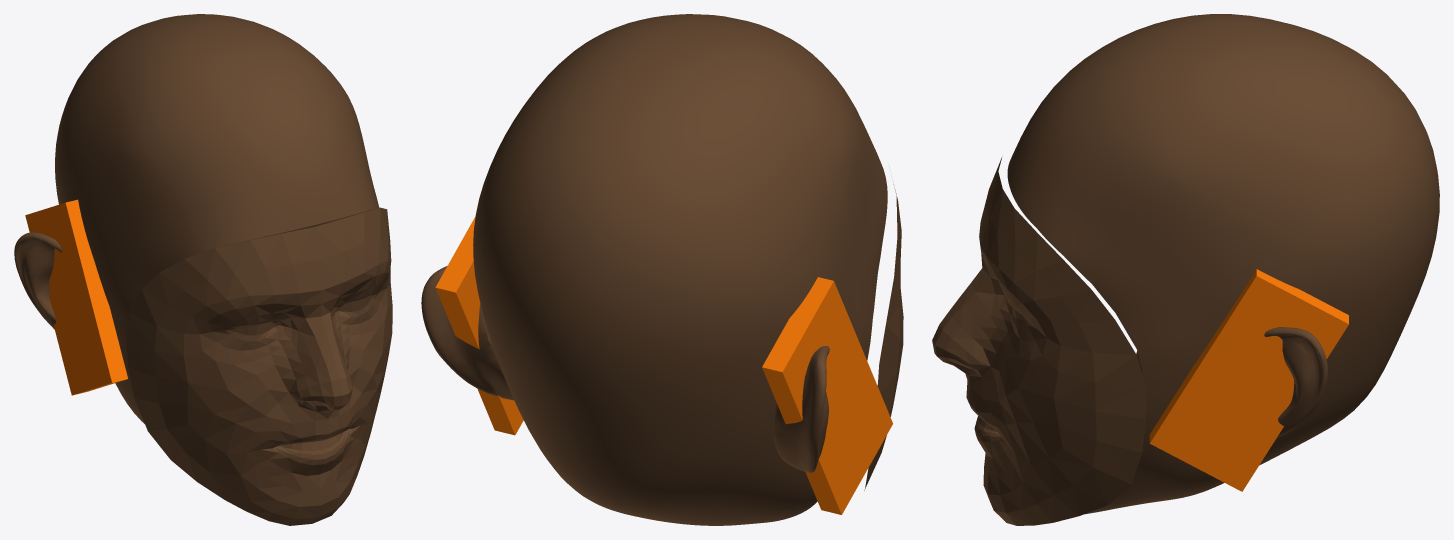
The model's file is standard_face.glb.
The picture shows the model from 3 angles, left to right: view 1: azimuth 30°, elevation 25°; view 2: azimuth 150°, elevation 25°; view 3: azimuth 270°, elevation 25°; orthographic projection. The views are drawn at different scales.
Parts seen in each view (by area): view 1: skull, standard face mesh, right_ear, ears; view 2: skull, right_ear, ears, left_ear, standard face mesh; view 3: skull, standard face mesh, left_ear, ears.
Boxes of the visible parts, <box> form: skull: <box>55,14,379,423</box>; standard face mesh: <box>126,207,392,525</box>; right_ear: <box>25,199,127,395</box>; ears: <box>14,232,62,329</box>; skull: <box>473,14,887,525</box>; right_ear: <box>762,277,892,514</box>; ears: <box>421,266,829,472</box>; left_ear: <box>435,216,523,435</box>; standard face mesh: <box>864,184,903,490</box>; skull: <box>1007,14,1439,514</box>; standard face mesh: <box>932,157,1146,525</box>; left_ear: <box>1149,269,1348,491</box>; ears: <box>1264,327,1327,437</box>.
Size of the model in its own units: 19.6 by 24.82 by 23.77.
